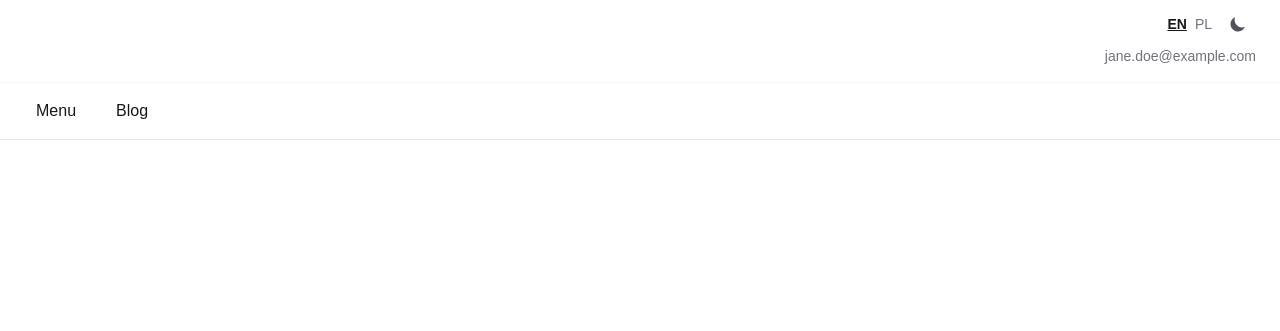
Test: Topbar › renders the brand link and the dropdown nav items plus blog link
The width and height of the screenshot is (1280, 331).
expect the link "Blog" is shown: met, box [116,102,148,119]
Click the button "Menu" at (56, 111), box [24,91,88,131]
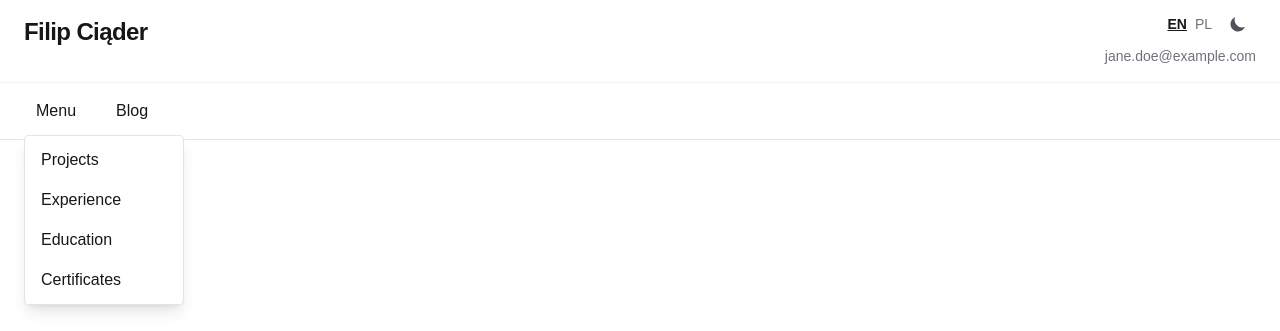
expect the menu item "Projects" is shown: met, box [41,151,99,168]
expect the menu item "Experience" is shown: met, box [41,191,121,208]
expect the menu item "Education" is shown: met, box [41,231,112,248]
